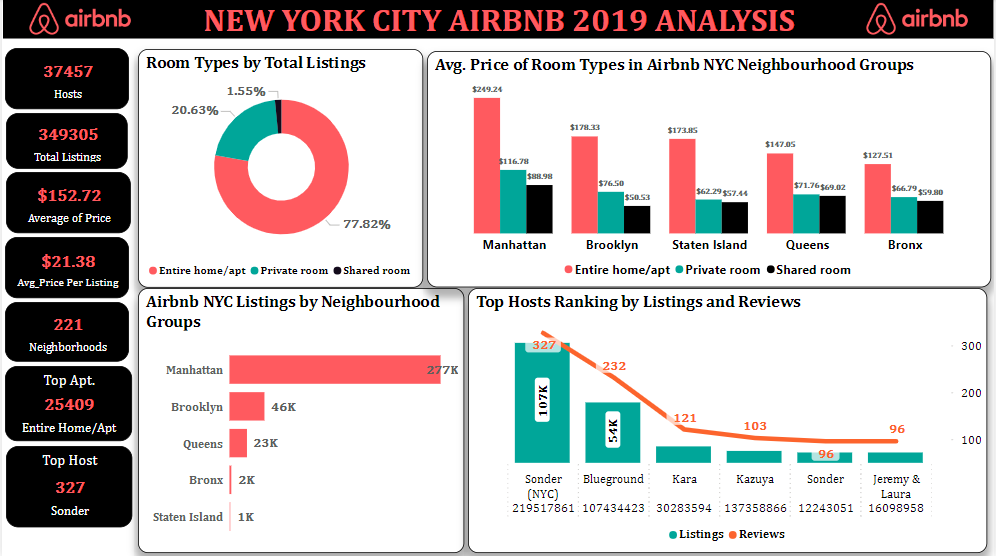

Layout of this report page (visuals, bound fields, positions):
{"tool":"powerbi","page":{"name":"Dashboard","canvas":[1280,720],"ordinal":0},"visuals":[{"type":"shape","box":[201.2,0,880.4,51.4],"z":0},{"type":"card","fields":{"Values":["Table1.Price"]},"box":[5.2,223.2,161.3,78.7],"z":1000},{"type":"card","fields":{"Values":["Table1.Avg_Price"]},"box":[4.3,307.6,160.2,79.4],"z":2000},{"type":"card","title":"Top Apt.","fields":{"Values":["Table1.Entire Home/Apt"]},"box":[3.9,473.5,163.9,96.8],"z":3000},{"type":"card","title":"Top Host","fields":{"Values":["Table1.Top Host"]},"box":[5.2,576.8,162.6,104.5],"z":4000},{"type":"image","box":[1.4,0,199.8,51.4],"z":5000},{"type":"image","box":[1081.6,0,198.4,51.4],"z":6000},{"type":"donutChart","title":"Room Types by Total Listings","fields":{"Category":["Table1.Room_Type"],"Y":["Table1.Calculated_Host_Listings_Count"]},"box":[175.5,64.2,368.2,308.2],"z":7000},{"type":"card","fields":{"Values":["Table1.Neighborhood"]},"box":[4.3,391.2,160.2,76.5],"z":8000},{"type":"card","fields":{"Values":["Table1.Hosts"]},"box":[4.3,63.8,160.2,79.4],"z":9000},{"type":"barChart","title":"Airbnb NYC Listings by Neighbourhood Groups","fields":{"Category":["Table1.Neighbourhood_Group"],"Y":["Table1.Calculated_Host_Listings_Count"]},"box":[175.7,372.8,420.9,341.6],"z":10000},{"type":"clusteredColumnChart","title":"Avg. Price of Room Types in Airbnb NYC Neighbourhood Groups","fields":{"Y":["Table1.Price"],"Category":["Table1.Neighbourhood_Group"],"Series":["Table1.Room_Type"]},"box":[548,67.1,727.8,305.4],"z":12000},{"type":"card","fields":{"Values":["Table1.Total Listings"]},"box":[5.7,147.4,157.3,72.3],"z":13000},{"type":"lineClusteredColumnComboChart","title":"Top Hosts Ranking by Listings and Reviews","fields":{"Category":["Table1.Host_Id","Table1.Host_Name"],"Y":["Table1.Calculated_Host_Listings_Count"],"Y2":["Table1.Last_Review"]},"box":[600.9,372.8,670.4,341.6],"z":14000}]}

Visuals, with their boxes in screenshot pixels (x1, y1, x2, y2), scaled from the page's 1280x720 canvas onto the 996x556 screenshot:
shape: 157 0 842 40
card - Table1.Price: 4 172 130 233
card - Table1.Avg_Price: 3 238 128 299
"Top Apt." card: 3 366 131 440
"Top Host" card: 4 445 131 526
image: 1 0 157 40
image: 842 0 995 40
"Room Types by Total Listings" donutChart: 137 50 423 288
card - Table1.Neighborhood: 3 302 128 361
card - Table1.Hosts: 3 49 128 111
"Airbnb NYC Listings by Neighbourhood Groups" barChart: 137 288 464 552
"Avg. Price of Room Types in Airbnb NYC Neighbourhood Groups" clusteredColumnChart: 426 52 993 288
card - Table1.Total Listings: 4 114 127 170
"Top Hosts Ranking by Listings and Reviews" lineClusteredColumnComboChart: 468 288 989 552
